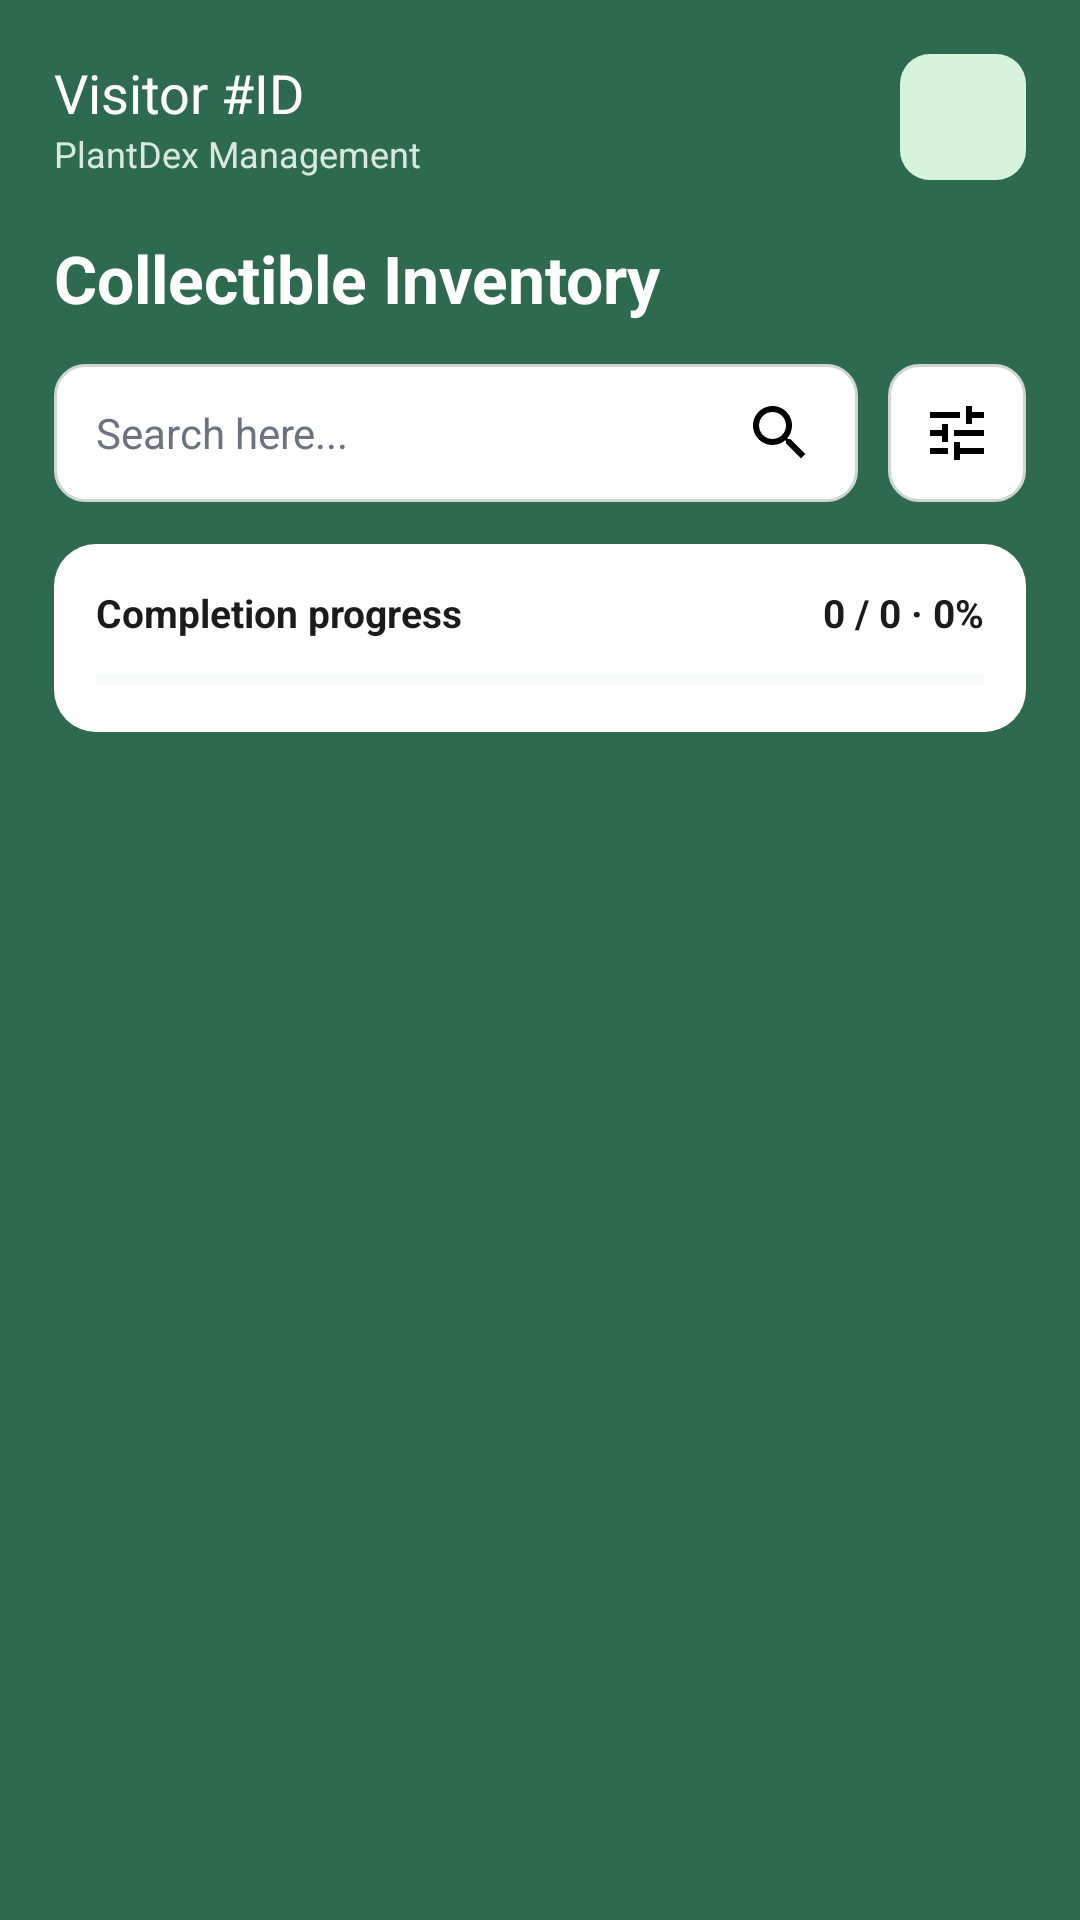

Screen size 1080×1920. Icon name, then its center in pixels as (x,y):
Filter: (957,433)
